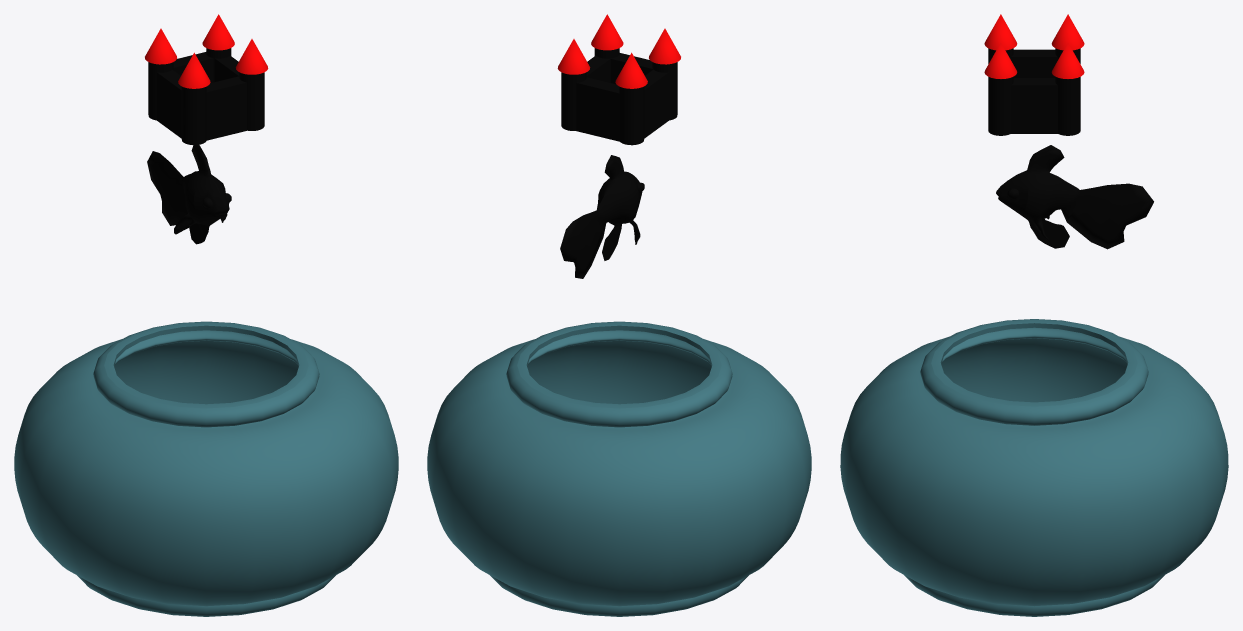
The model's file is FishandBowl.obj.
The picture shows the model from 3 angles, left to right: view 1: azimuth 30°, elevation 25°; view 2: azimuth 150°, elevation 25°; view 3: azimuth 270°, elevation 25°; orthographic projection.
Visible parts, largest first — view 1: FishBowl, Wall Wall1 Wall2 Wall3, FishMesh, Tower Tower1 Tower3 Tower2, Tower Tower1 Tower3 Tower2 pCone1 pCone1 pCone1 pCone1; view 2: FishBowl, Wall Wall1 Wall2 Wall3, FishMesh, Tower Tower1 Tower3 Tower2, Tower Tower1 Tower3 Tower2 pCone1 pCone1 pCone1 pCone1; view 3: FishBowl, FishMesh, Wall Wall1 Wall2 Wall3, Tower Tower1 Tower3 Tower2, Tower Tower1 Tower3 Tower2 pCone1 pCone1 pCone1 pCone1.
Boxes of the visible parts, bbox=[...] form: FishBowl: bbox=[14, 321, 398, 616]; Wall Wall1 Wall2 Wall3: bbox=[157, 52, 246, 140]; FishMesh: bbox=[147, 145, 231, 244]; Tower Tower1 Tower3 Tower2: bbox=[148, 48, 264, 145]; Tower Tower1 Tower3 Tower2 pCone1 pCone1 pCone1 pCone1: bbox=[145, 14, 268, 88]; FishBowl: bbox=[427, 321, 811, 616]; Wall Wall1 Wall2 Wall3: bbox=[576, 53, 668, 141]; FishMesh: bbox=[560, 155, 644, 278]; Tower Tower1 Tower3 Tower2: bbox=[561, 48, 677, 145]; Tower Tower1 Tower3 Tower2 pCone1 pCone1 pCone1 pCone1: bbox=[557, 14, 680, 88]; FishBowl: bbox=[840, 319, 1228, 616]; FishMesh: bbox=[996, 145, 1153, 249]; Wall Wall1 Wall2 Wall3: bbox=[1009, 49, 1077, 133]; Tower Tower1 Tower3 Tower2: bbox=[988, 48, 1080, 135]; Tower Tower1 Tower3 Tower2 pCone1 pCone1 pCone1 pCone1: bbox=[984, 14, 1084, 78].
Size of the model in its own units: 23.1 by 35.12 by 23.1.
